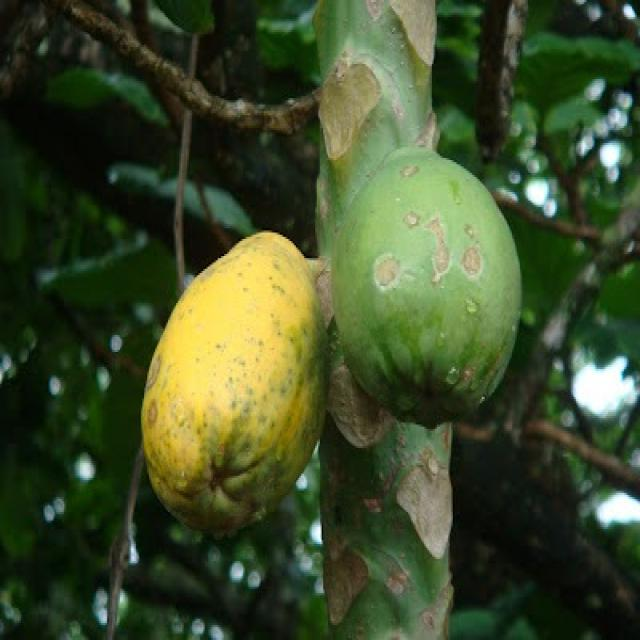Pepaya rippen: (128, 232, 323, 540)
Pepaya unrippen: (331, 130, 530, 442)
